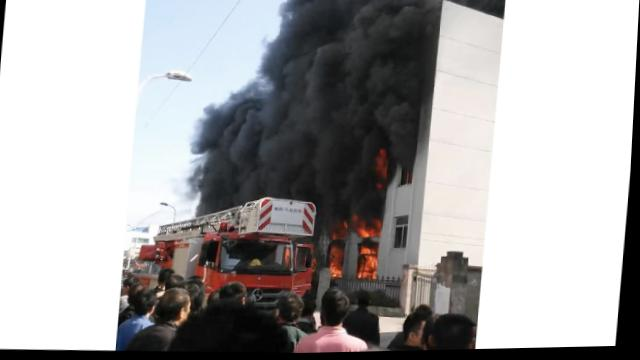fire: (360, 256, 380, 281), (331, 250, 347, 278), (361, 226, 380, 239), (364, 249, 372, 254)
